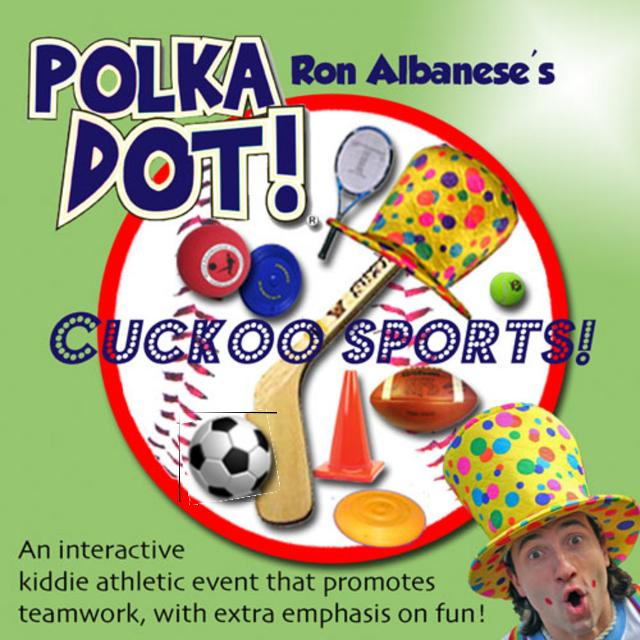Football: (179, 412, 277, 502)
